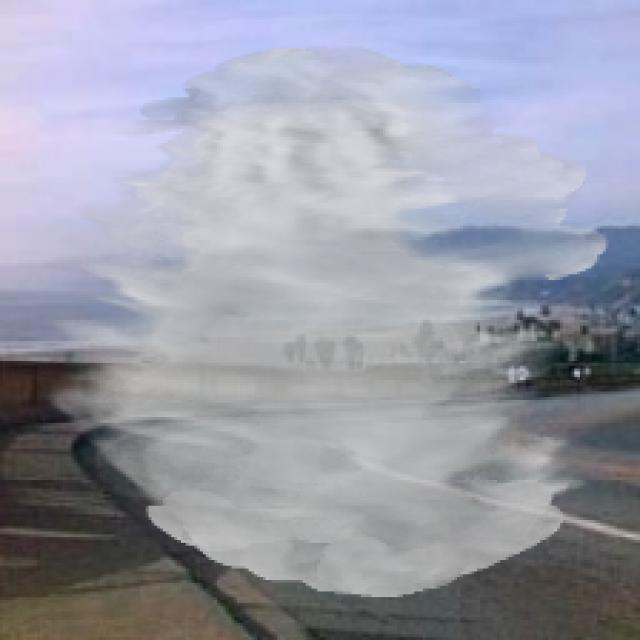smoke: (43, 46, 608, 597)
